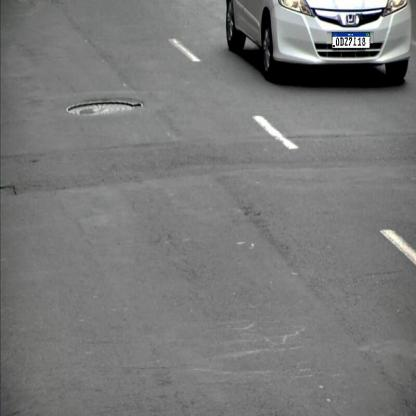PlacaM: (332, 32, 370, 48)
